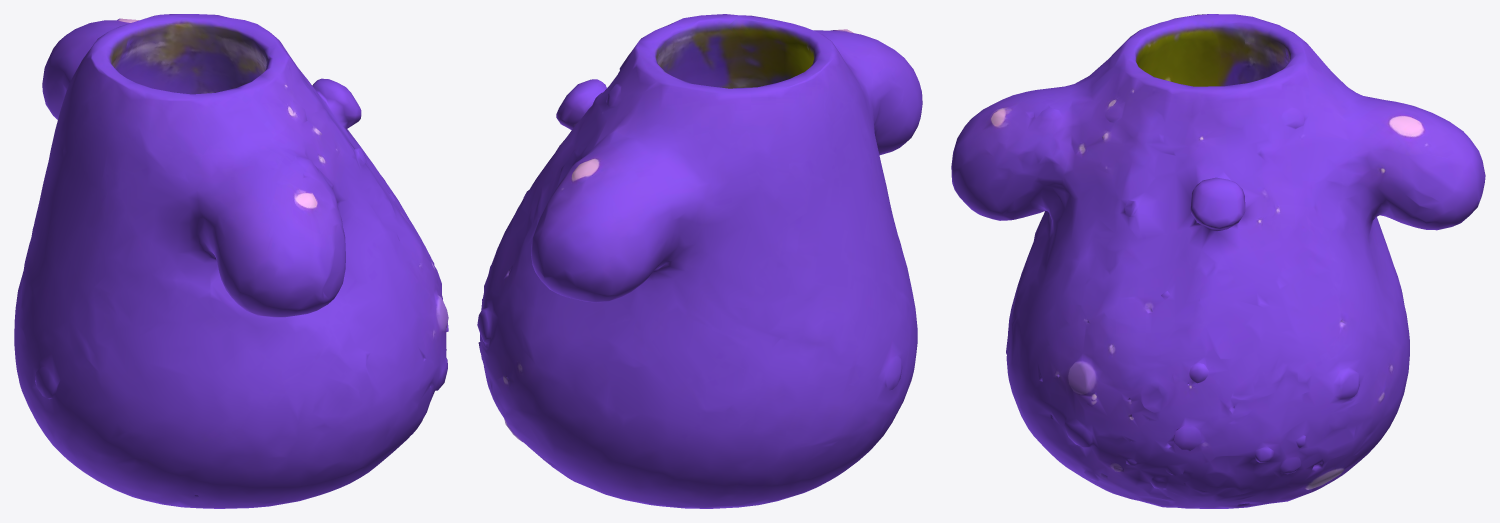
File: body.glb
3 renders of one model, left to right at view 1: azimuth 30°, elevation 25°; view 2: azimuth 150°, elevation 25°; view 3: azimuth 270°, elevation 25°, orthographic. The views are drawn at different scales.
Parts seen in each view (by area): view 1: tripo_node_2784c48f-5a9e-4027-bd47-1381748210c7; view 2: tripo_node_2784c48f-5a9e-4027-bd47-1381748210c7; view 3: tripo_node_2784c48f-5a9e-4027-bd47-1381748210c7.
Part boxes in pixels (x1=…): tripo_node_2784c48f-5a9e-4027-bd47-1381748210c7: x1=14, y1=14, x2=448, y2=508; tripo_node_2784c48f-5a9e-4027-bd47-1381748210c7: x1=477, y1=14, x2=922, y2=508; tripo_node_2784c48f-5a9e-4027-bd47-1381748210c7: x1=951, y1=14, x2=1485, y2=508.
Size of the model in its own units: 0.7824 by 0.7885 by 1.
Materials: 1 (1 with a texture image).
